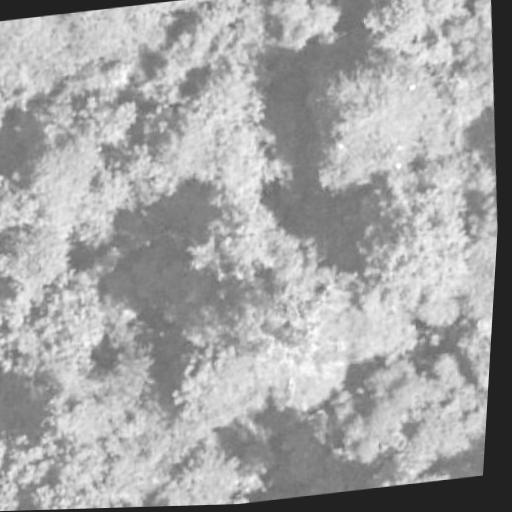tree-top: (287, 40, 480, 193), (142, 54, 286, 184), (344, 163, 476, 304), (36, 343, 161, 450), (184, 191, 295, 293), (163, 337, 270, 440), (323, 270, 430, 366), (50, 0, 189, 73), (0, 424, 113, 512), (174, 48, 279, 142), (13, 269, 110, 365), (156, 430, 269, 506), (0, 203, 83, 302), (27, 124, 119, 212), (0, 12, 82, 106), (352, 351, 428, 450), (93, 429, 182, 508), (341, 0, 476, 52), (262, 0, 356, 59), (352, 449, 452, 490), (459, 178, 501, 272), (0, 279, 14, 368)
